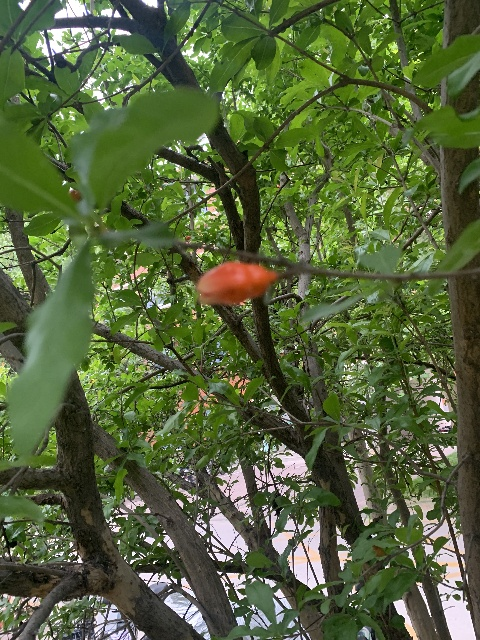bud: (196, 261, 277, 305)
